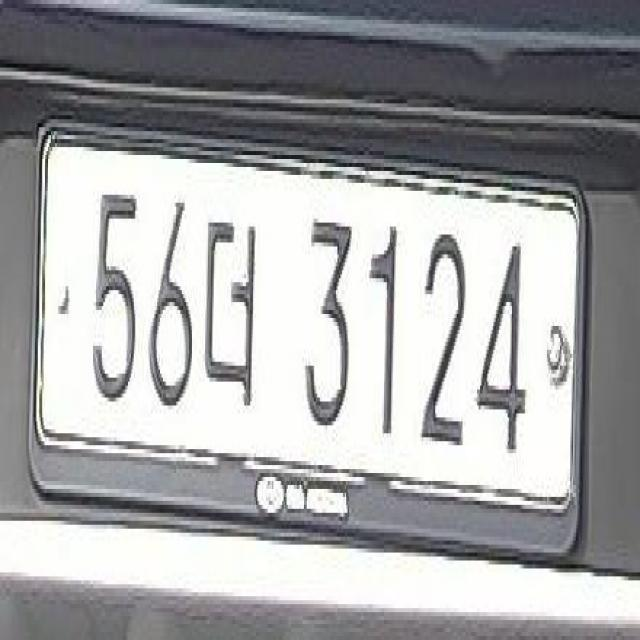1: (358, 200, 402, 440)
2: (408, 207, 468, 463)
3: (296, 192, 352, 432)
4: (472, 225, 528, 460)
5: (90, 168, 138, 404)
6: (144, 175, 197, 414)
deo: (200, 196, 260, 422)
license_plate: (20, 94, 599, 592)
